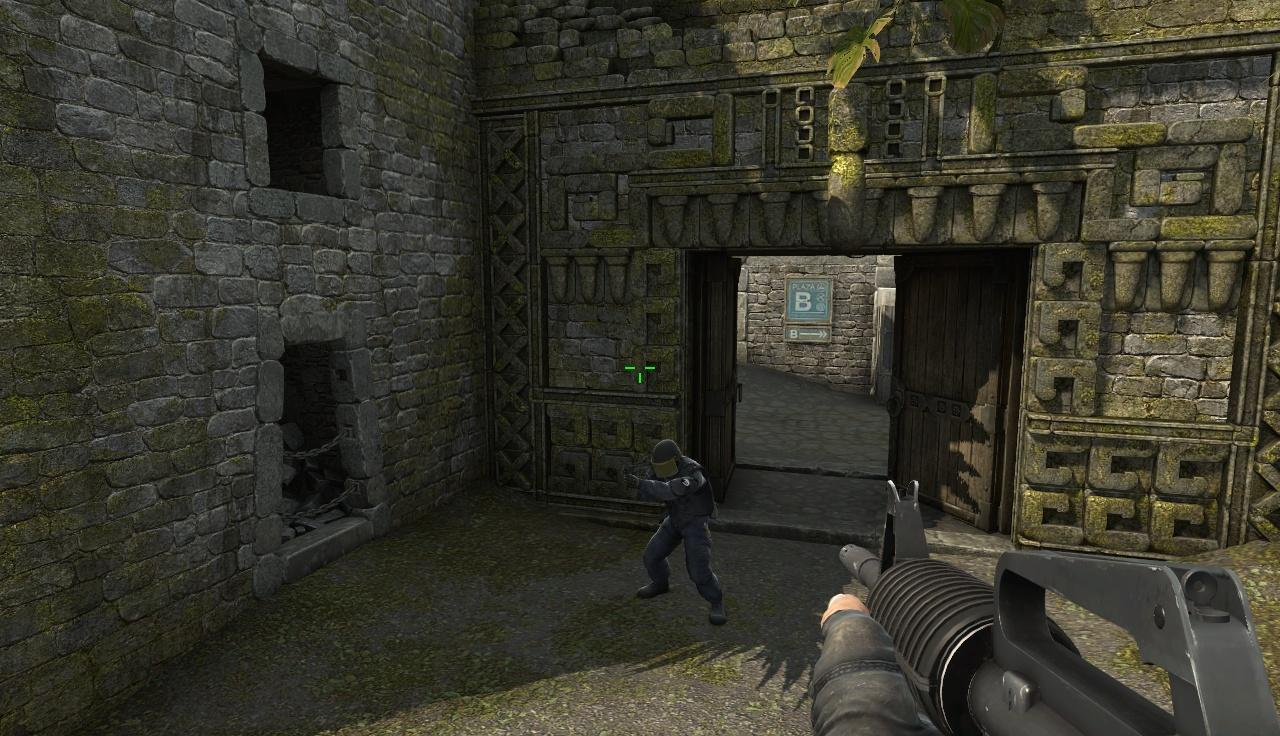ct: (647, 437, 719, 617)
cthead: (652, 439, 680, 472)
rifle: (833, 482, 1280, 736)
